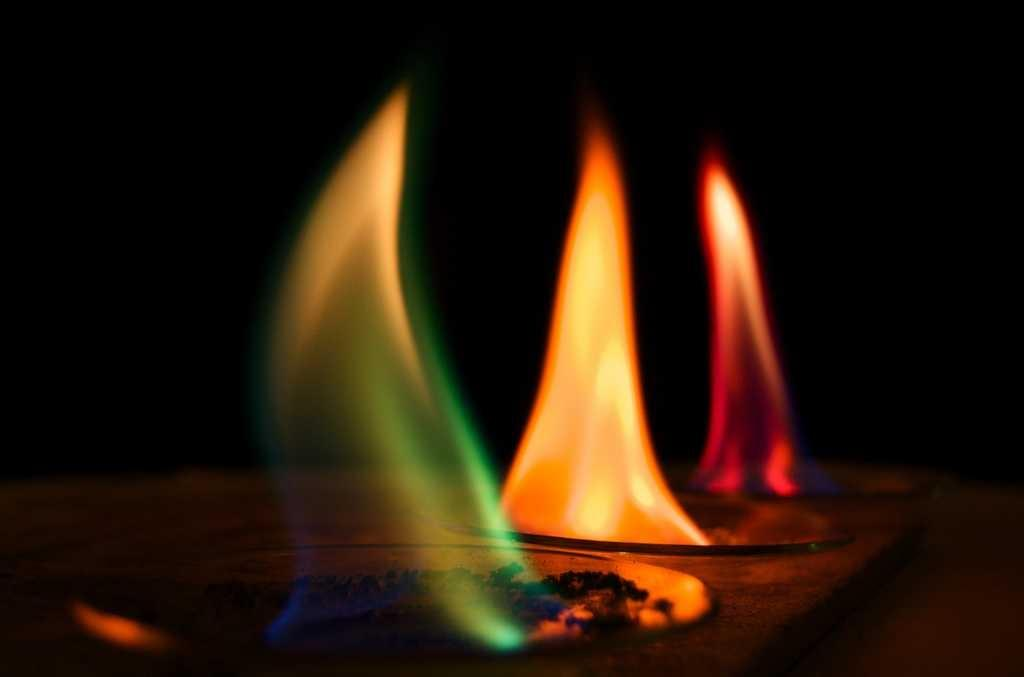fire: (260, 223, 468, 617), (560, 195, 645, 543), (710, 218, 780, 495)
